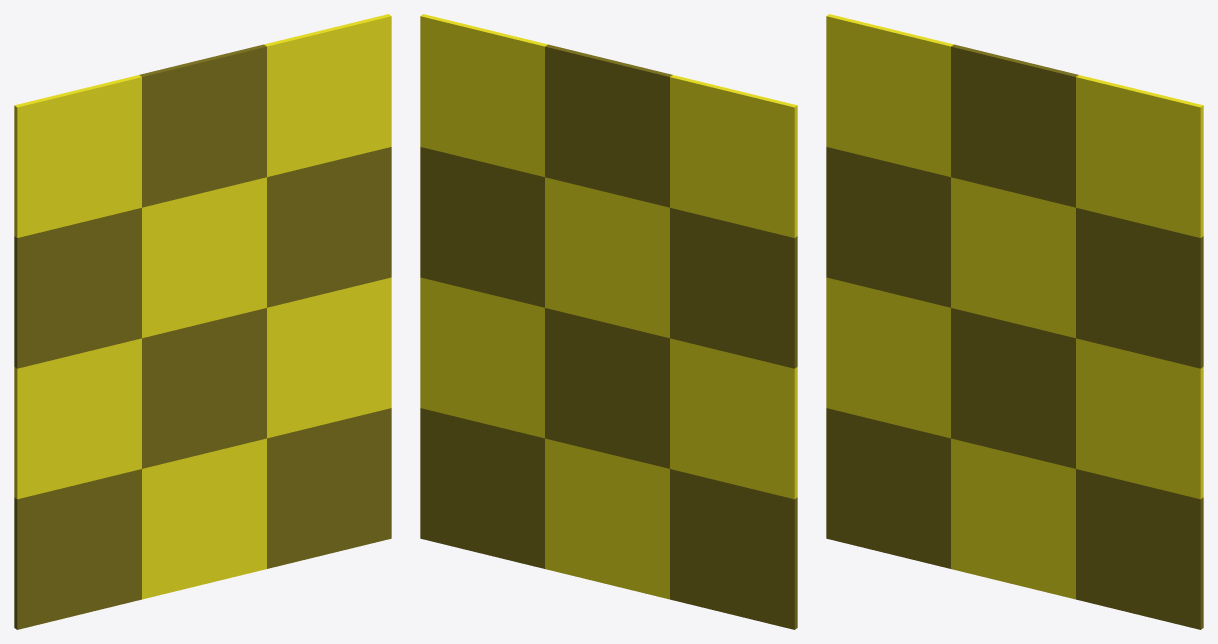
Rendered from ElectricBarrier.fbx.
3 renders of one model, left to right at view 1: azimuth 30°, elevation 25°; view 2: azimuth 150°, elevation 25°; view 3: azimuth 330°, elevation 25°, orthographic.
Parts seen in each view (by area): view 1: Cube.005, Cube.003, Cube.006, Cube.010, Cube.008, Cube.004, Cube.001, Cube.012, Cube.009, Cube.007, Cube.002, Cube.011; view 2: Cube.005, Cube.003, Cube.006, Cube.010, Cube.008, Cube.004, Cube.001, Cube.012, Cube.009, Cube.007, Cube.002, Cube.011; view 3: Cube.004, Cube.002, Cube.007, Cube.011, Cube.008, Cube.005, Cube.001, Cube.012, Cube.009, Cube.006, Cube.003, Cube.010.
Boxes of the visible parts, x1,y1,x2,y2 form: Cube.005: (14, 75, 141, 237); Cube.003: (14, 208, 141, 368); Cube.006: (14, 338, 141, 499); Cube.010: (14, 469, 141, 629); Cube.008: (139, 44, 266, 207); Cube.004: (264, 14, 391, 176); Cube.001: (142, 177, 266, 338); Cube.012: (142, 438, 266, 599); Cube.009: (142, 308, 266, 468); Cube.007: (267, 277, 391, 438); Cube.002: (267, 147, 391, 307); Cube.011: (267, 408, 391, 568); Cube.005: (670, 75, 797, 237); Cube.003: (670, 208, 797, 368); Cube.006: (670, 338, 797, 499); Cube.010: (670, 469, 797, 629); Cube.008: (545, 44, 672, 207); Cube.004: (420, 14, 547, 176); Cube.001: (545, 177, 669, 338); Cube.012: (545, 438, 669, 599); Cube.009: (545, 308, 669, 468); Cube.007: (420, 277, 544, 438); Cube.002: (420, 147, 544, 307); Cube.011: (420, 408, 544, 568); Cube.004: (1076, 75, 1203, 237); Cube.002: (1076, 208, 1203, 368); Cube.007: (1076, 338, 1203, 499); Cube.011: (1076, 469, 1203, 629); Cube.008: (951, 44, 1078, 207); Cube.005: (826, 14, 953, 176); Cube.001: (951, 177, 1075, 338); Cube.012: (951, 438, 1075, 599); Cube.009: (951, 308, 1075, 468); Cube.006: (826, 277, 950, 438); Cube.003: (826, 147, 950, 307); Cube.010: (826, 408, 950, 568).
Bounding box in the file's own units: 144 × 192 × 2.
